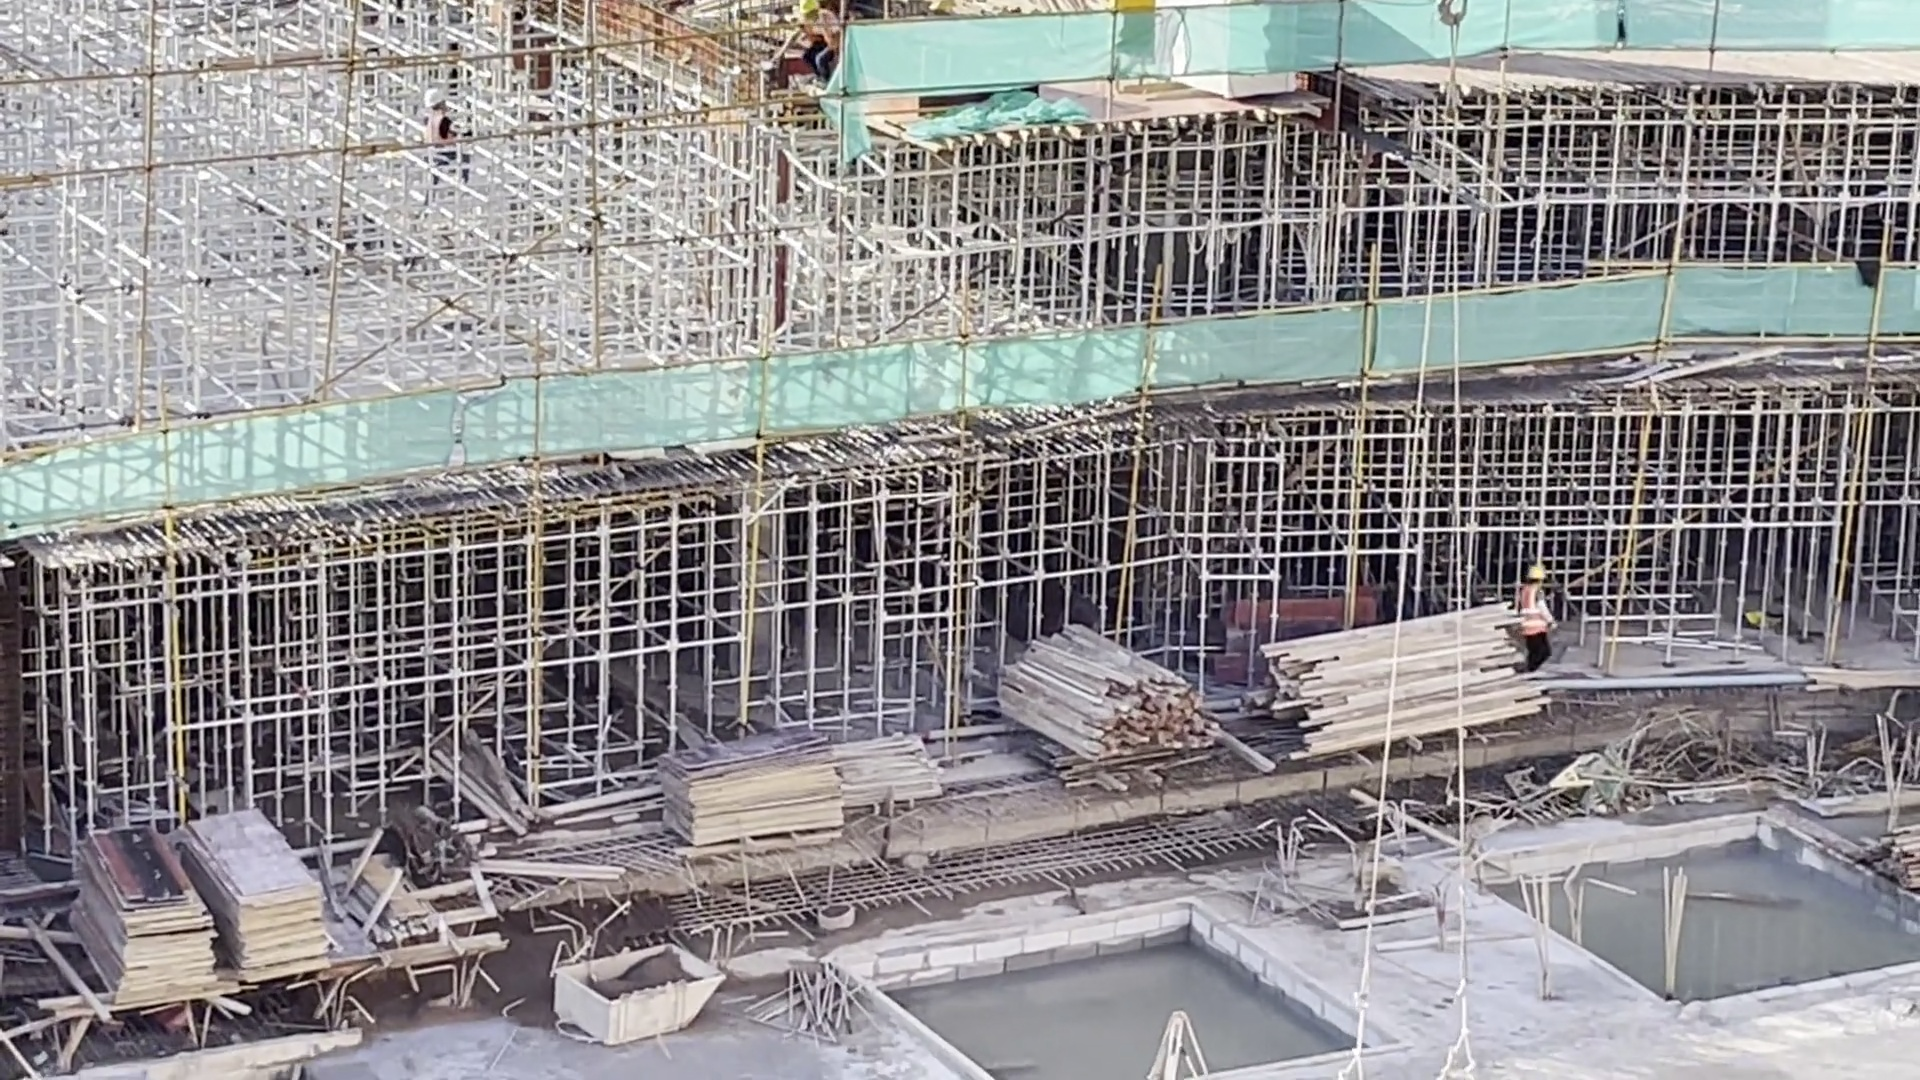board: (66, 827, 226, 1006), (184, 805, 341, 985), (663, 726, 849, 857)
helmet: (420, 88, 448, 109), (794, 1, 822, 18), (1527, 564, 1547, 581)
hook: (1439, 5, 1471, 34)
hopper: (548, 942, 722, 1049)
person: (770, 1, 840, 89), (1518, 560, 1563, 672), (411, 86, 464, 148)
vest: (1517, 586, 1551, 637)
wood: (1258, 615, 1549, 761), (992, 619, 1223, 761)
